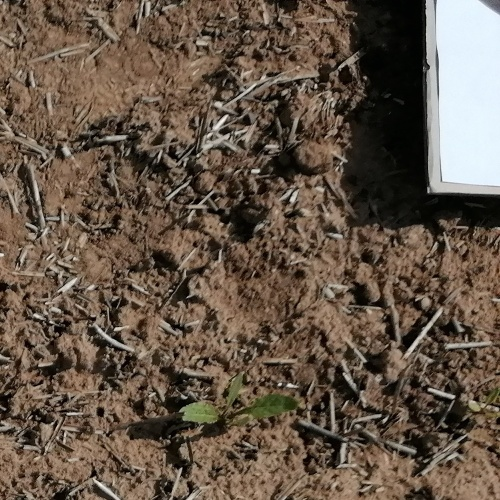beet: (179, 378, 300, 427), (470, 388, 500, 421)
